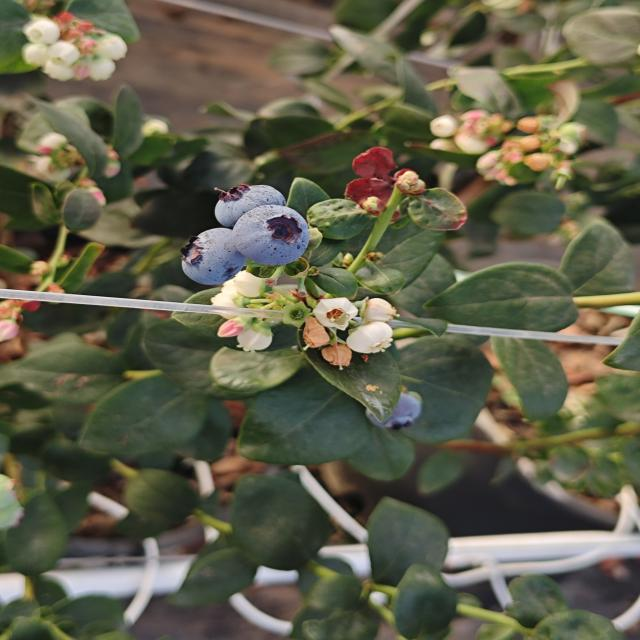ripe: (231, 203, 312, 268), (211, 179, 301, 228), (178, 226, 246, 286), (356, 382, 429, 434)
